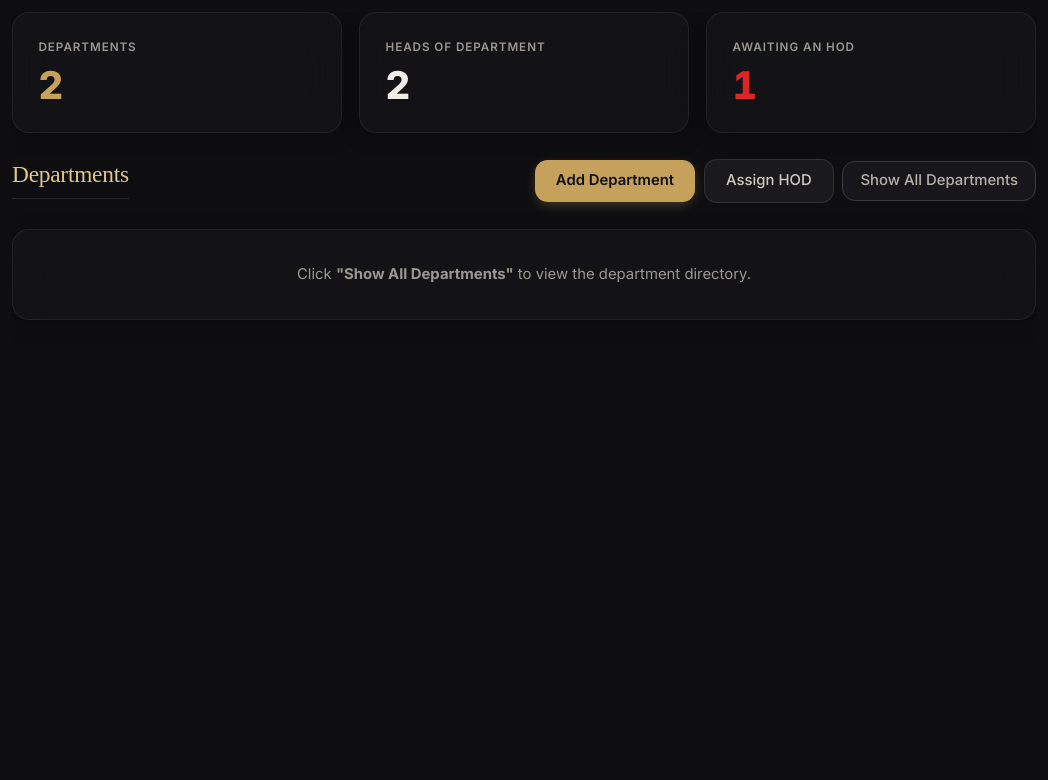
Test case: Departments tab — HOD directory › lists every HOD with the departments they cover when clicked
Expected: the text "Heads of Department" is shown, [386,38,546,56]
Click the button "Heads of Department 2": (466, 46) [359,12,689,133]
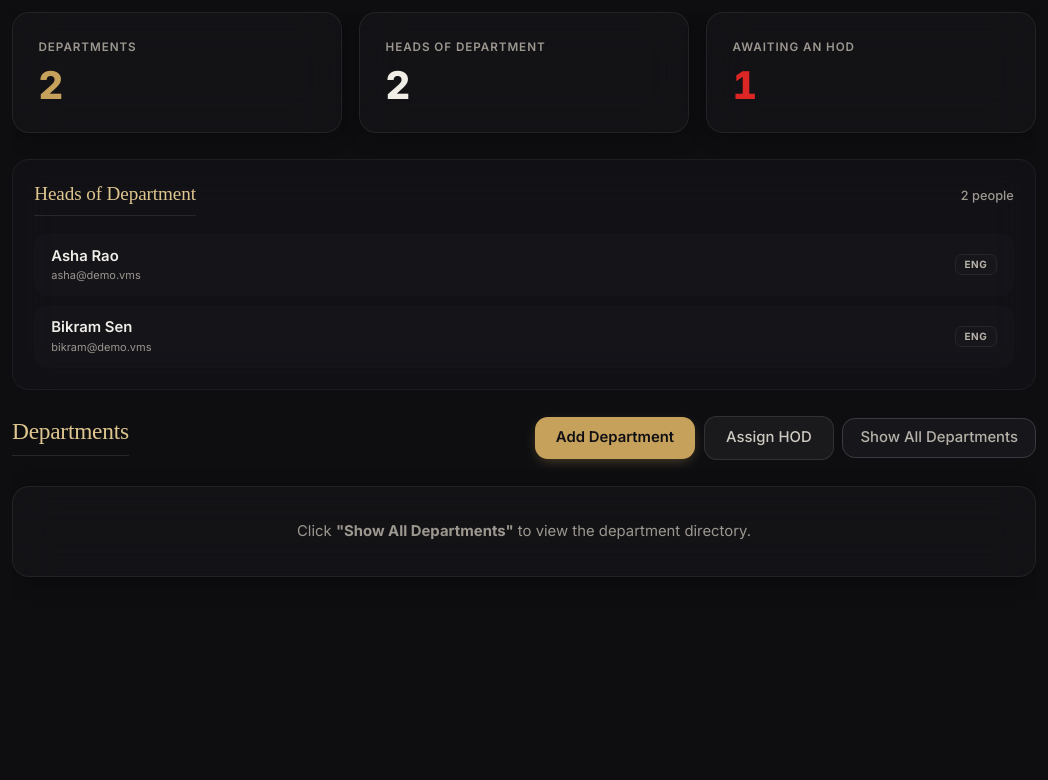
Now the text "Asha Rao" is shown, box [51,246,119,264]
Now the text "Bikram Sen" is shown, box [51,318,132,336]
Now the text "asha@demo.vms" is shown, box [51,267,141,283]
